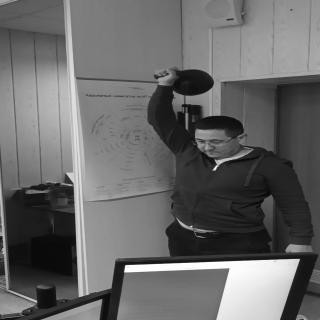girya: (154, 67, 220, 99)
